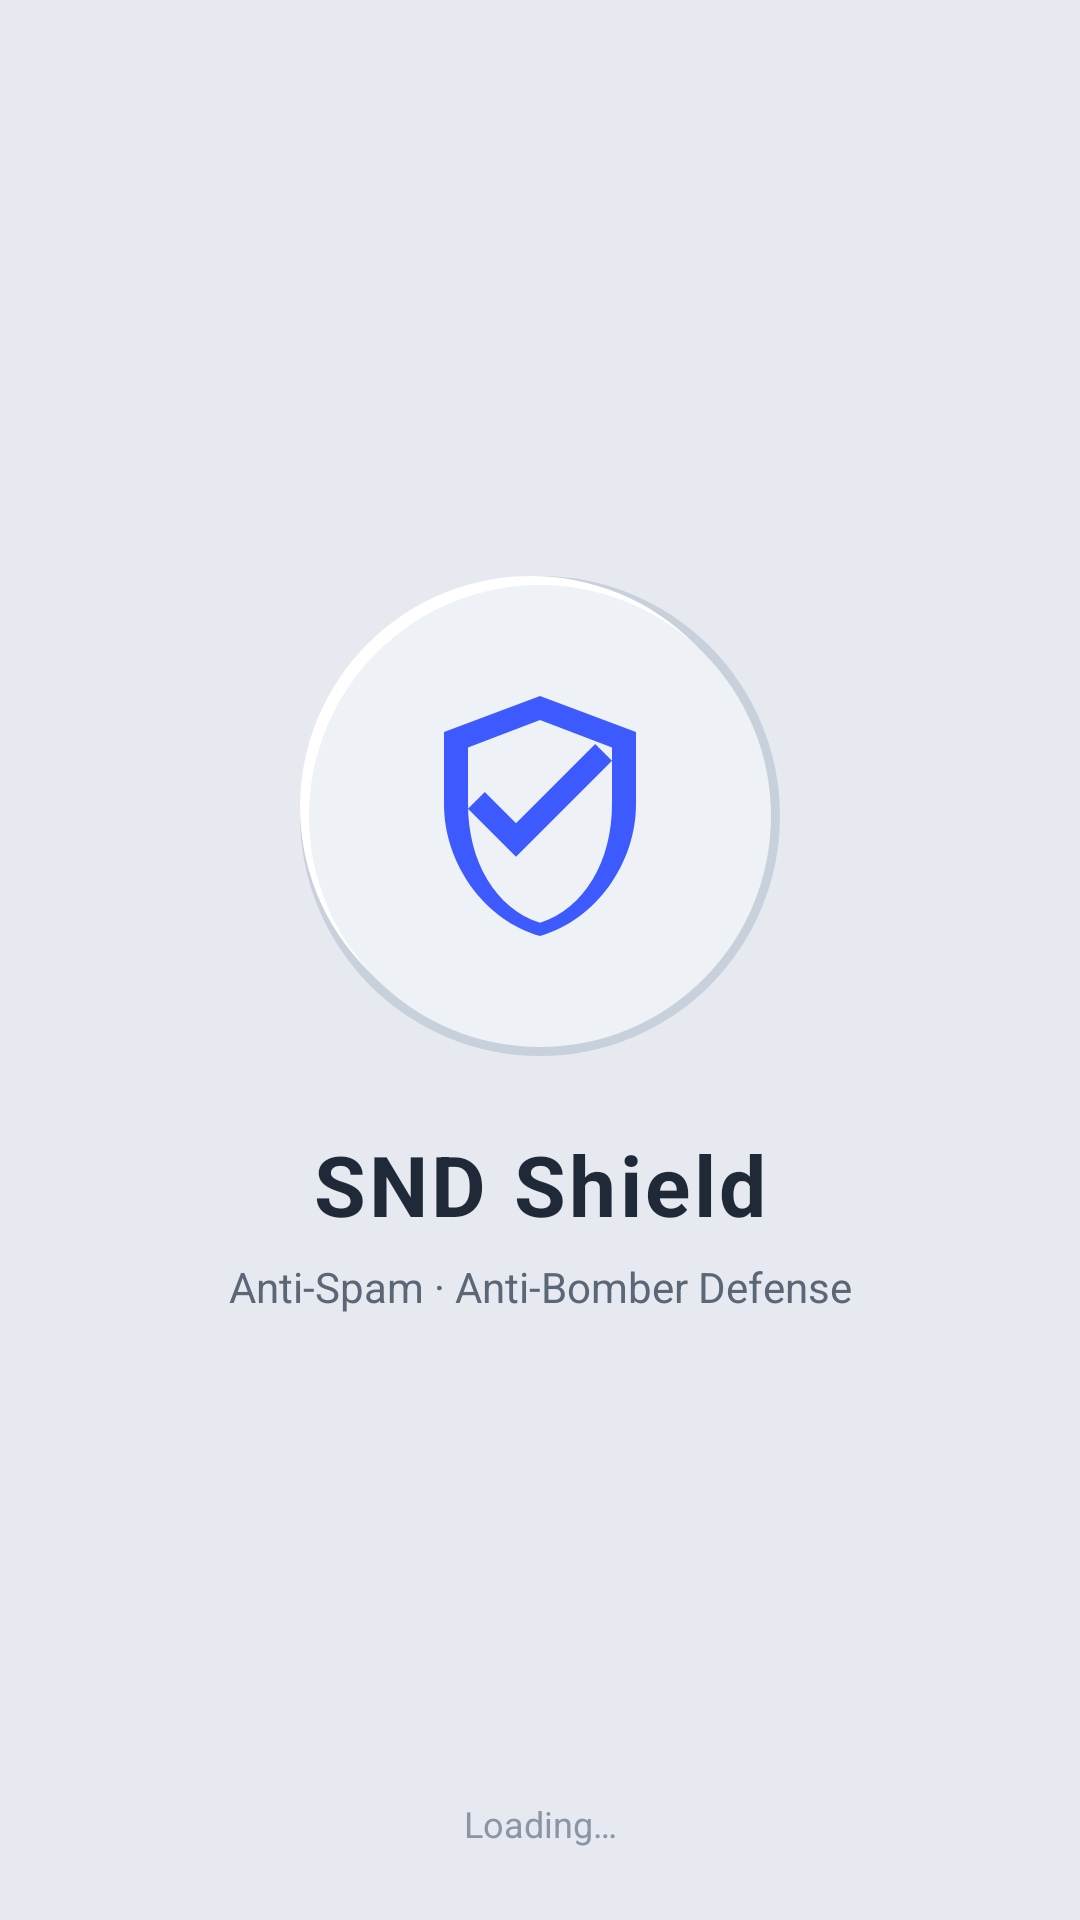

Screen size 1080px×1920px. Icon name, then its center in pixels as (x=x, y=y):
shield: (x=540, y=816)
